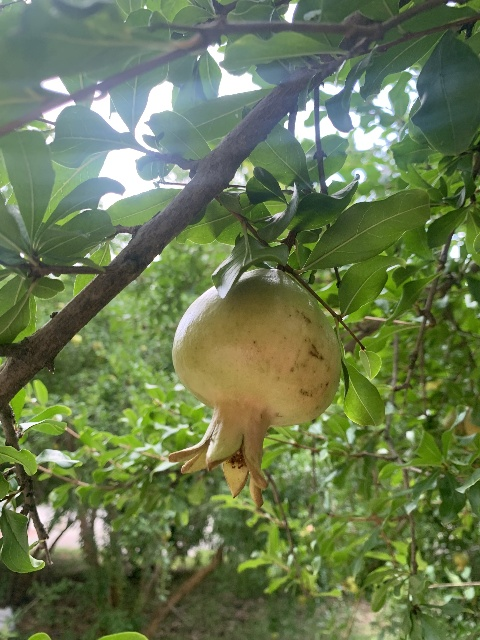mid-growth: (168, 268, 342, 507)
